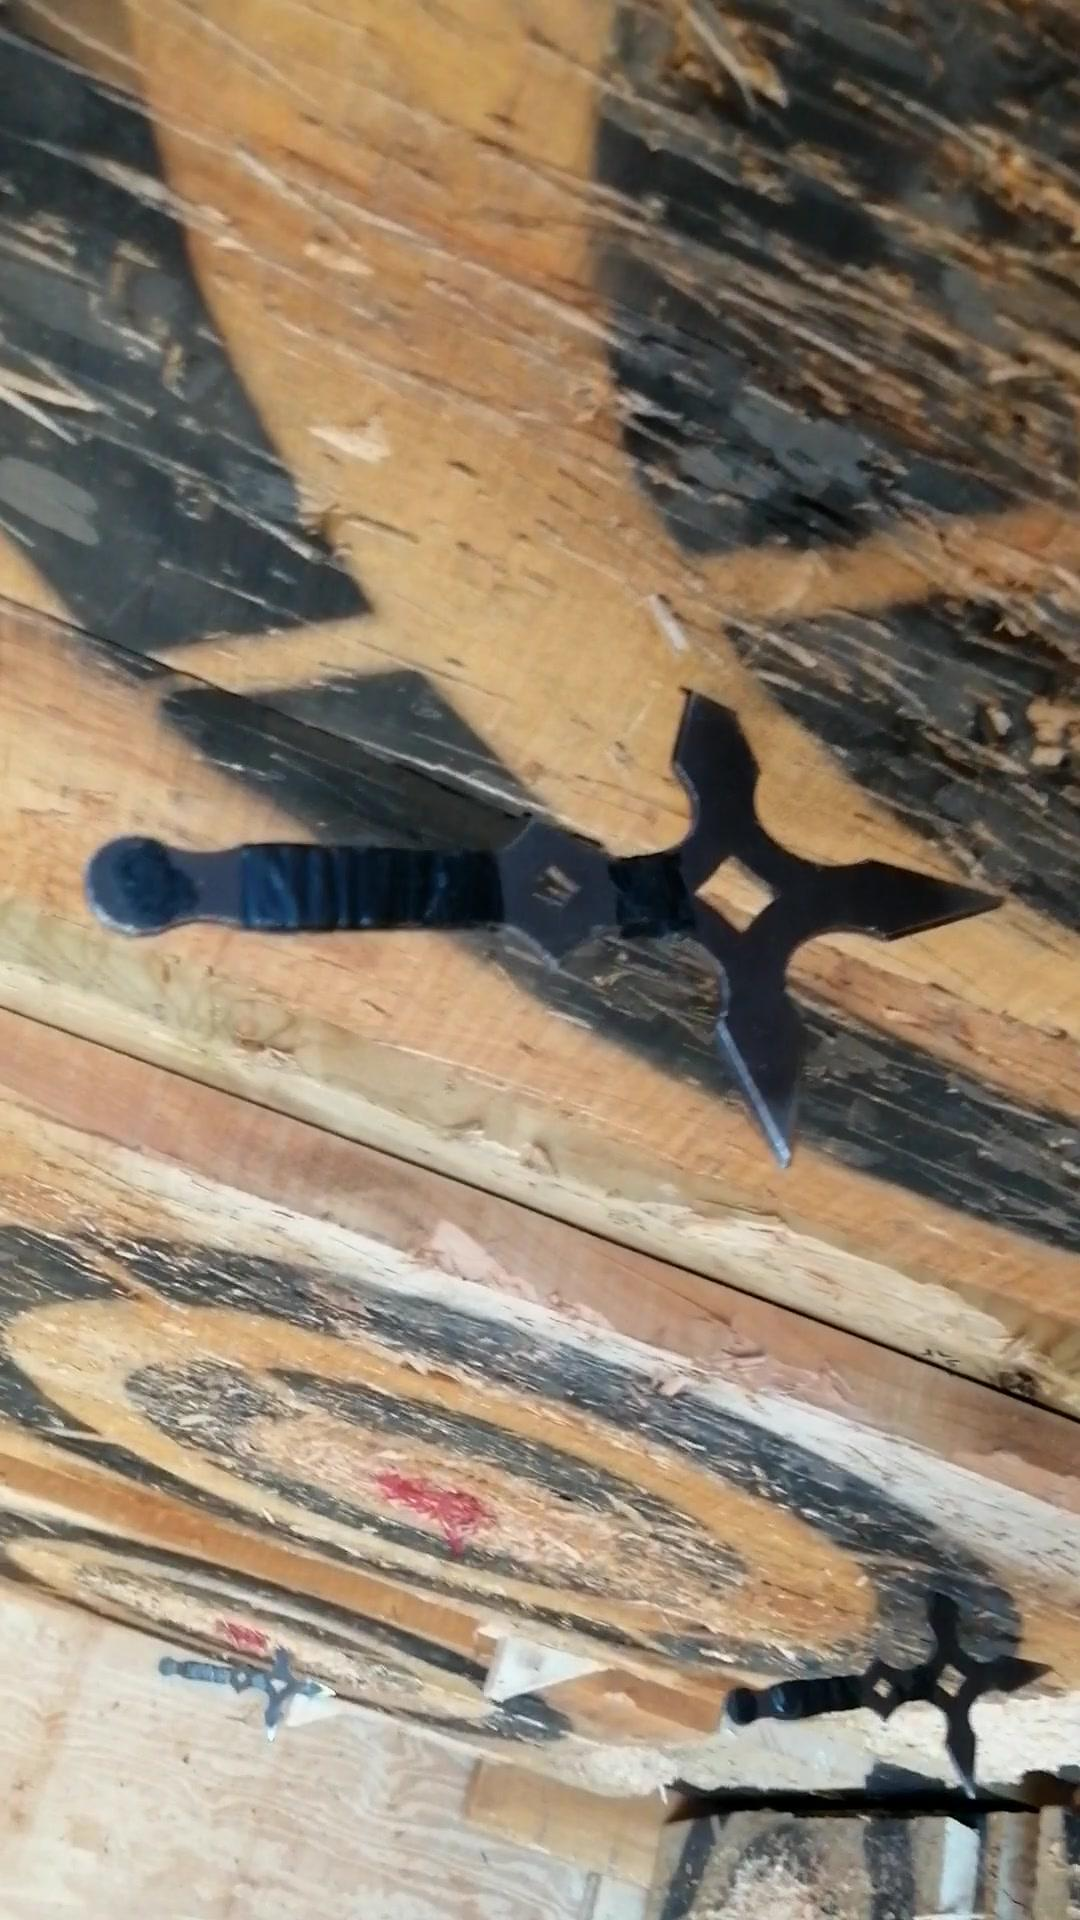Hand Axe: (88, 688, 1009, 1168), (727, 1585, 1052, 1792), (156, 1640, 330, 1735)
